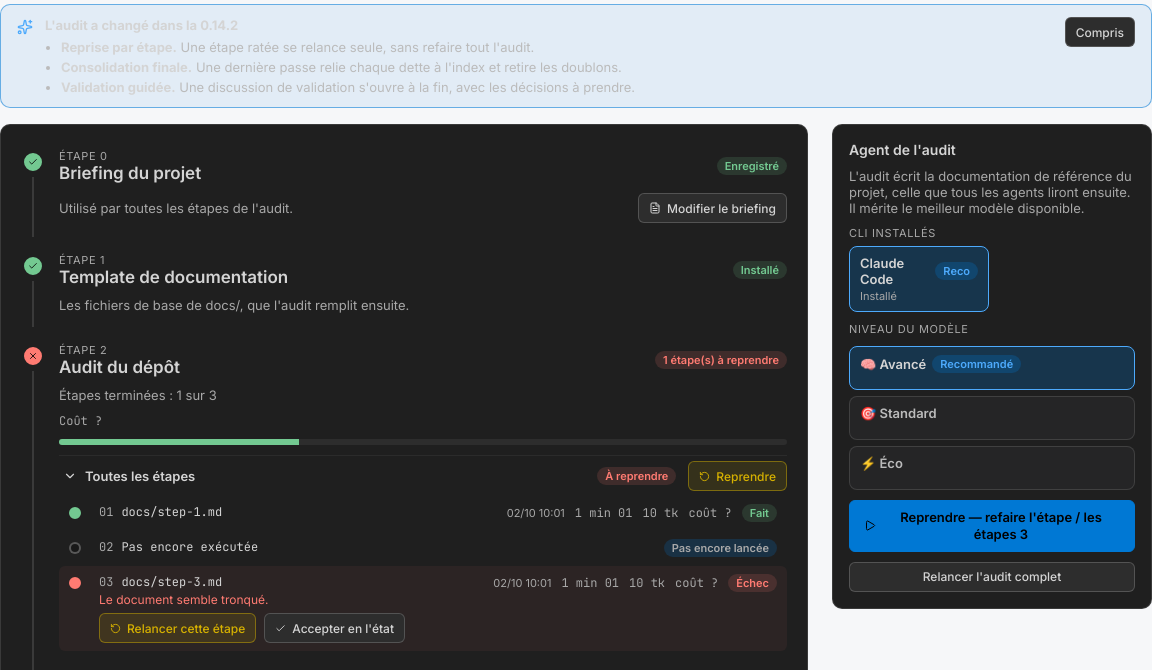
Test: AuditTimeline — cancelled runs, half-written targets, drift › an unsound acceptance shows the diff and needs an explicit override
This screenshot has width=1152, height=670.
Expected: the button with class "audit-tl-group-head" is shown, [59,456,680,496]
Click the button with test id "audit-timeline-step-accept-3".
click(335, 628)  # box [264,613,405,643]
(page scrolled)
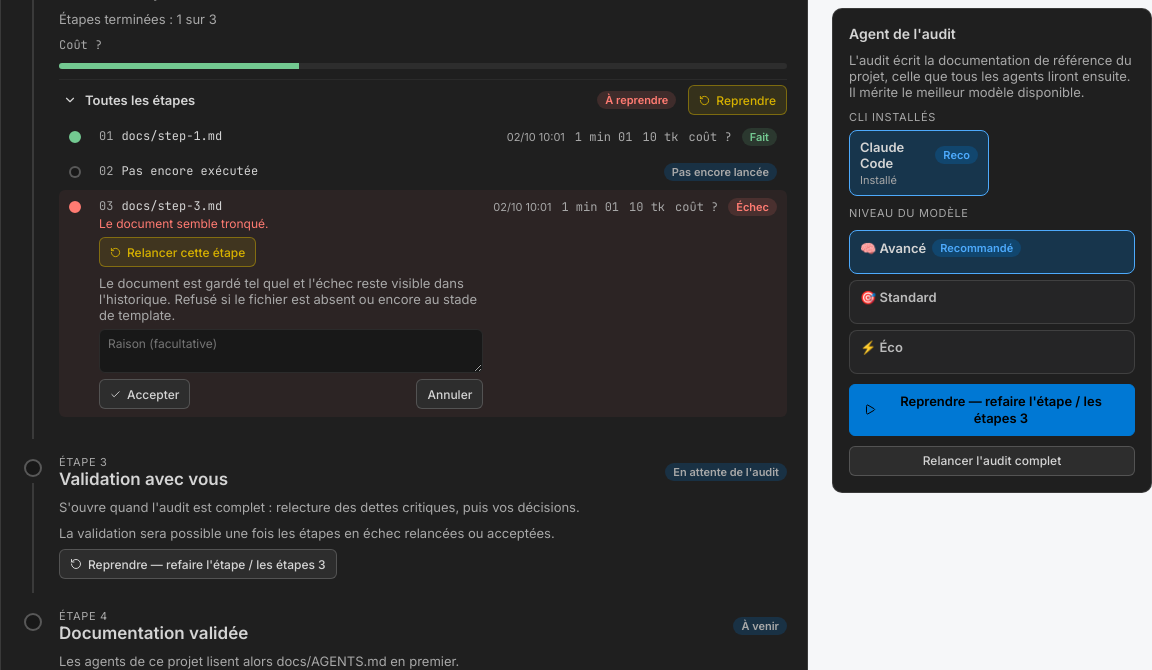
Click the button with test id "audit-timeline-accept-confirm-3".
click(145, 394)  # box [99,379,190,409]
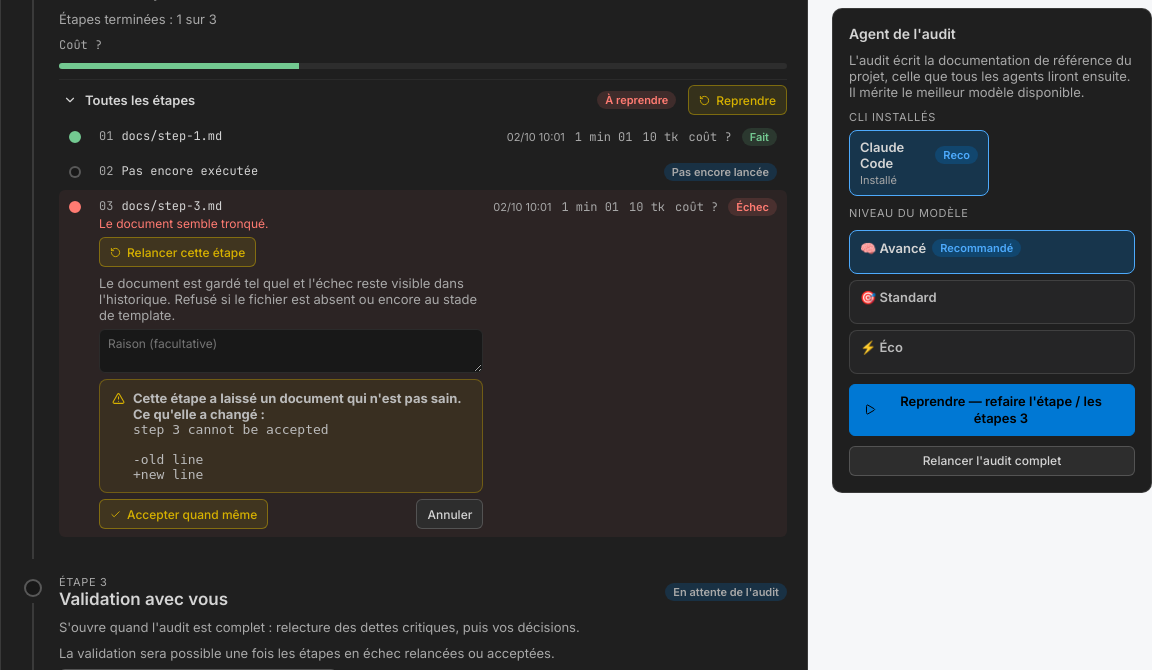
Now the message with test id "audit-timeline-accept-override-3" shows "+new line", box [133,422,329,482]
The override is a second, explicit click.
Click the button with test id "audit-timeline-accept-confirm-3".
click(184, 514)  # box [99,499,268,529]
(page scrolled)
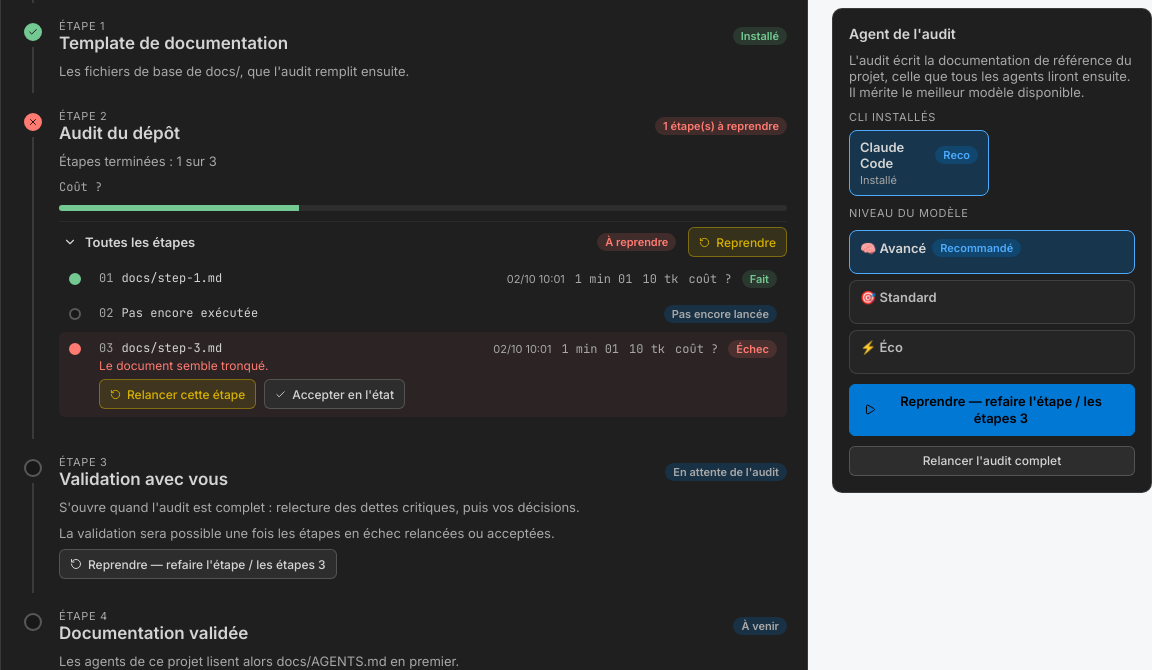
Now the message with test id "audit-timeline-accept-override-3" is gone
